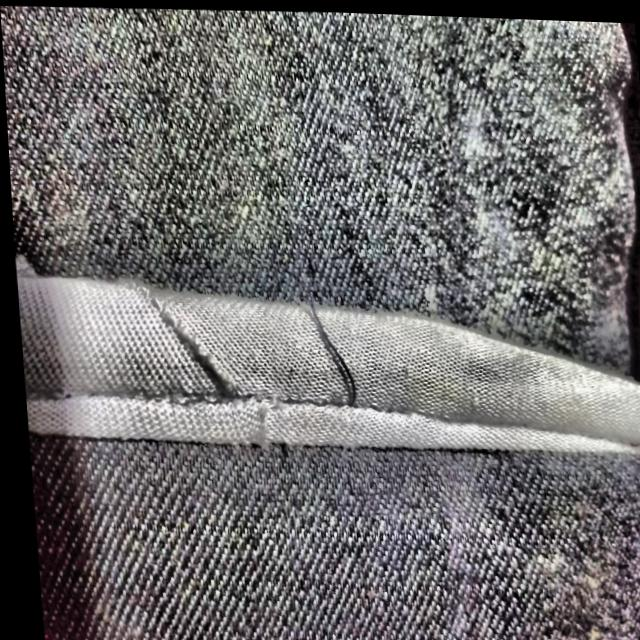Stitch: (135, 290, 235, 410), (297, 297, 365, 404)
